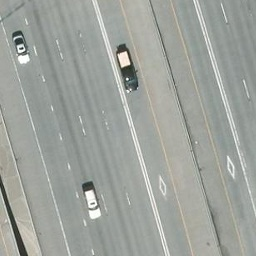car: (115, 52, 141, 93), (12, 34, 32, 63), (84, 189, 101, 219)
